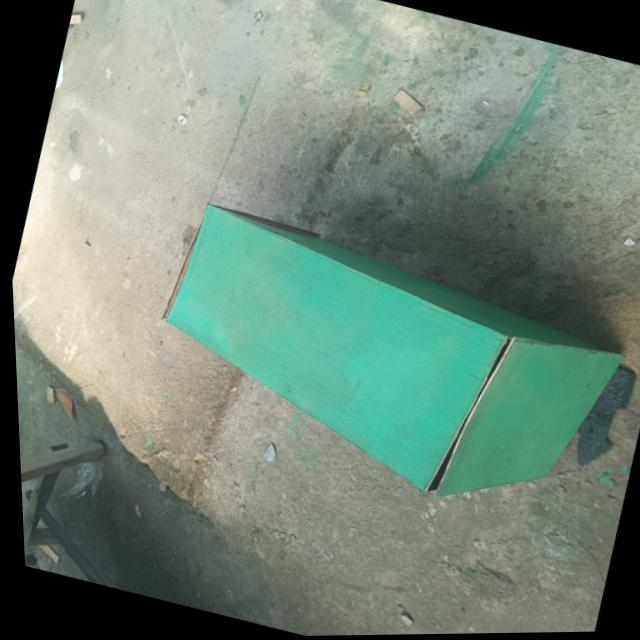green_box: (99, 175, 640, 556)
